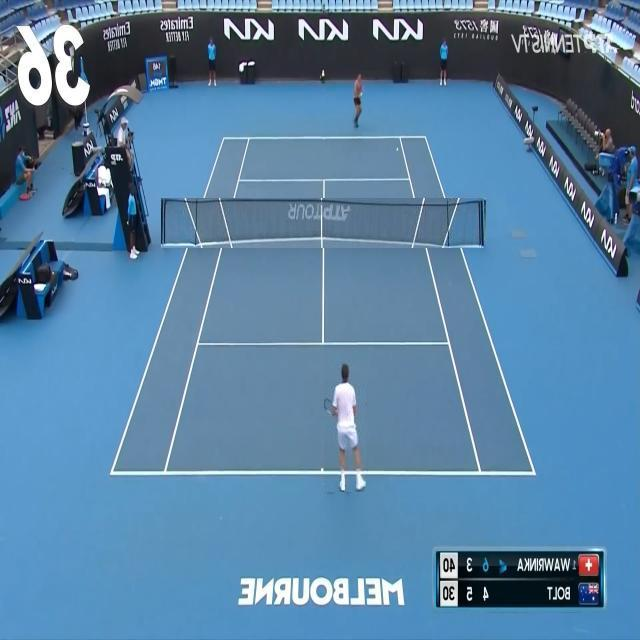court: (109, 136, 537, 476)
net: (162, 198, 486, 248)
player: (324, 363, 366, 492)
